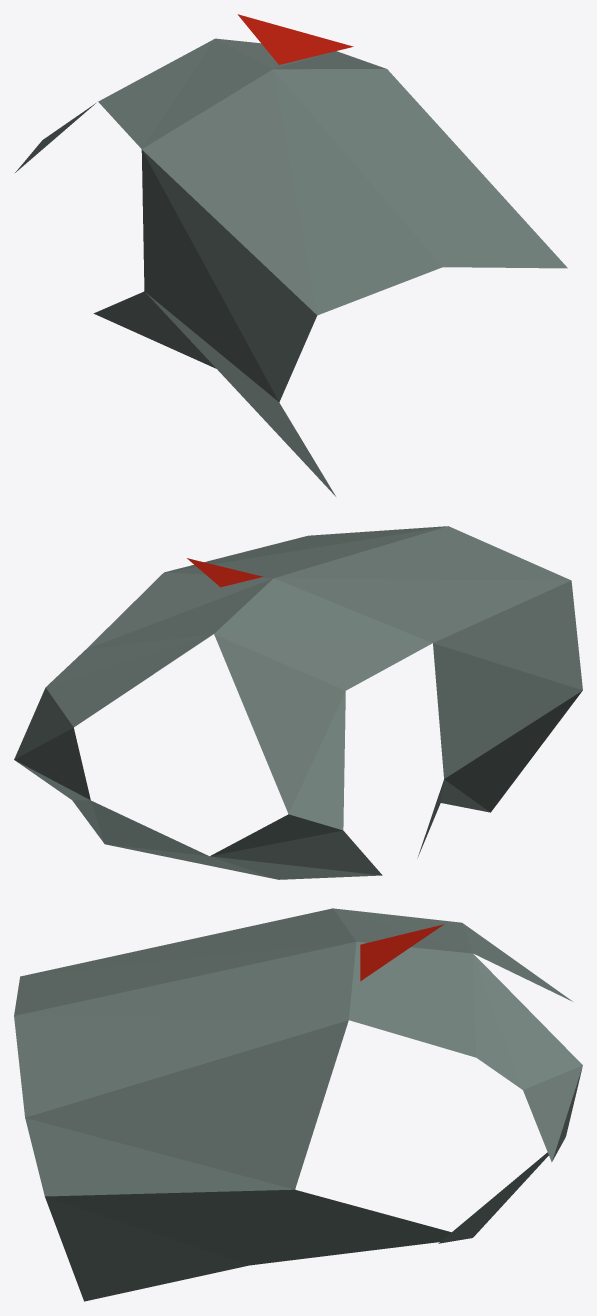
3 views of the same model, one above another, from view 1: azimuth 30°, elevation 25°; view 2: azimuth 150°, elevation 25°; view 3: azimuth 270°, elevation 25° (orthographic). The views are drawn at different scales.
Bounding box in the file's own units: 0.4875 × 0.4844 × 0.7476.
2 materials, 2 textured.
